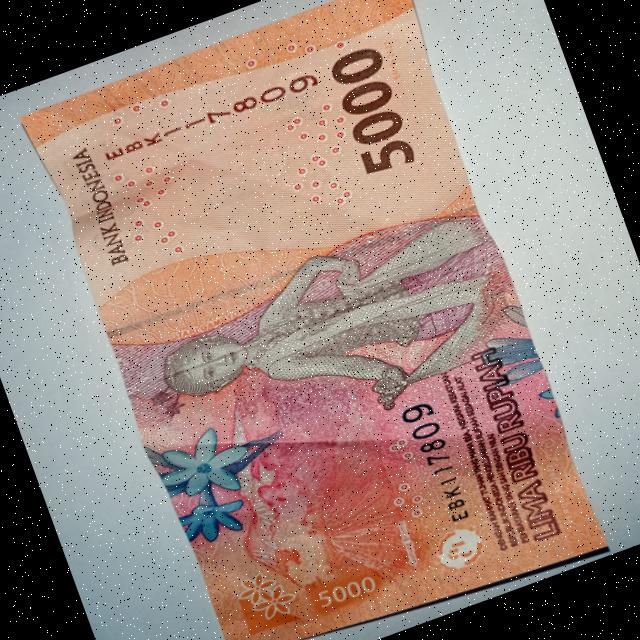5K: (10, 0, 624, 640)
